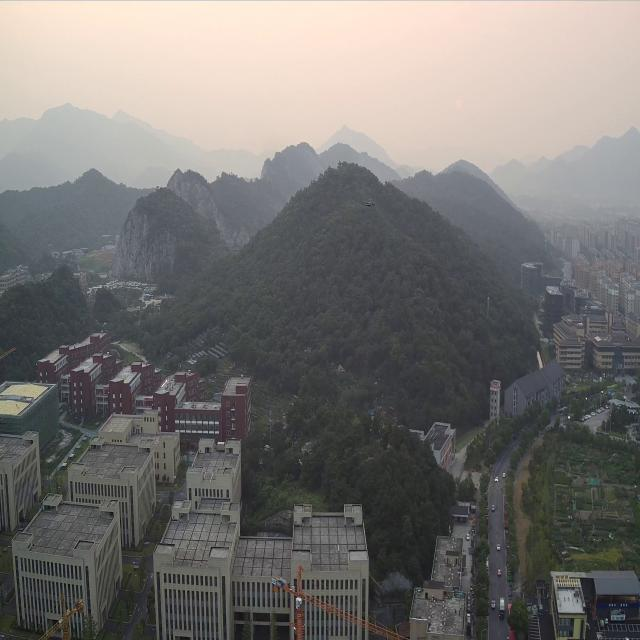UAV: (363, 202, 375, 208)
